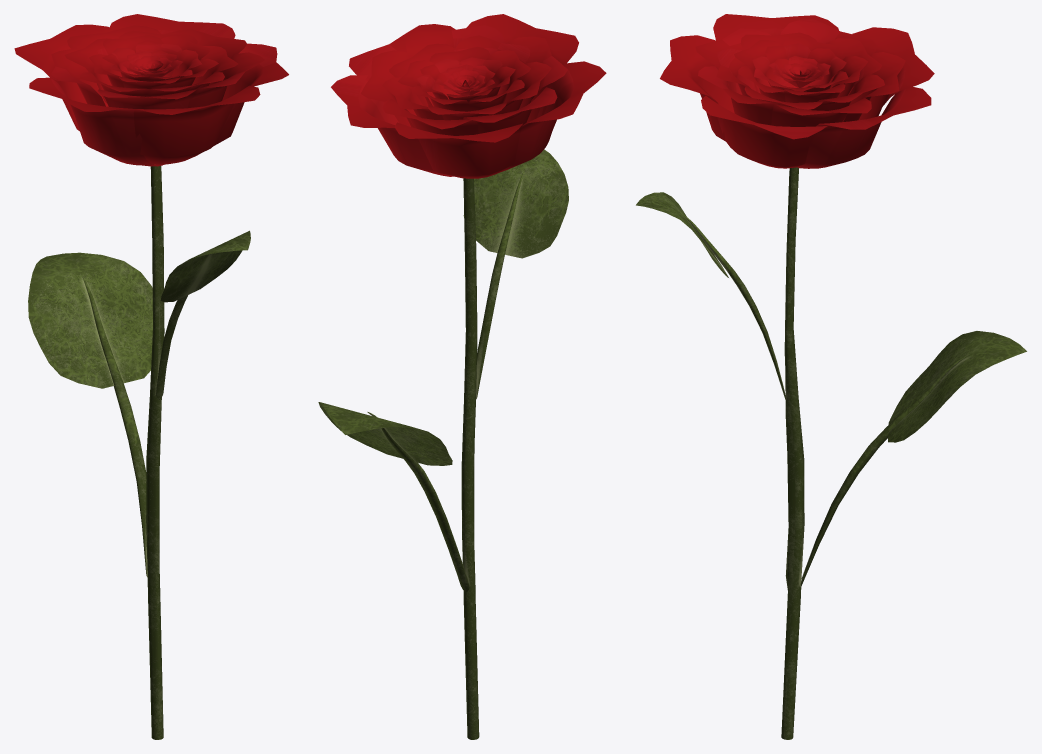
The picture shows the model from 3 angles, left to right: view 1: azimuth 30°, elevation 25°; view 2: azimuth 150°, elevation 25°; view 3: azimuth 270°, elevation 25°; orthographic projection.
Parts seen in each view (by area): view 1: Head, Stem; view 2: Head, Stem; view 3: Head, Stem.
Part boxes in pixels (x1,y1,x2,y2): Head: [14, 14, 288, 166]; Stem: [28, 166, 250, 739]; Head: [331, 14, 606, 178]; Stem: [318, 149, 568, 739]; Head: [660, 14, 934, 168]; Stem: [636, 167, 1026, 739].
Bounding box in the file's own units: 9.22 × 25.31 × 13.26.
2 materials, 2 textured.
